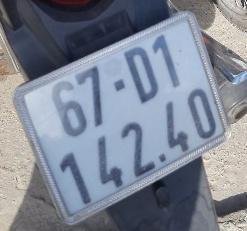0: (182, 83, 225, 149)
1: (147, 31, 192, 95), (53, 147, 97, 211)
2: (115, 116, 160, 183)
4: (86, 129, 131, 199), (153, 95, 195, 165)
6: (45, 74, 91, 143)
7: (69, 62, 118, 134)
D: (118, 41, 166, 110)
